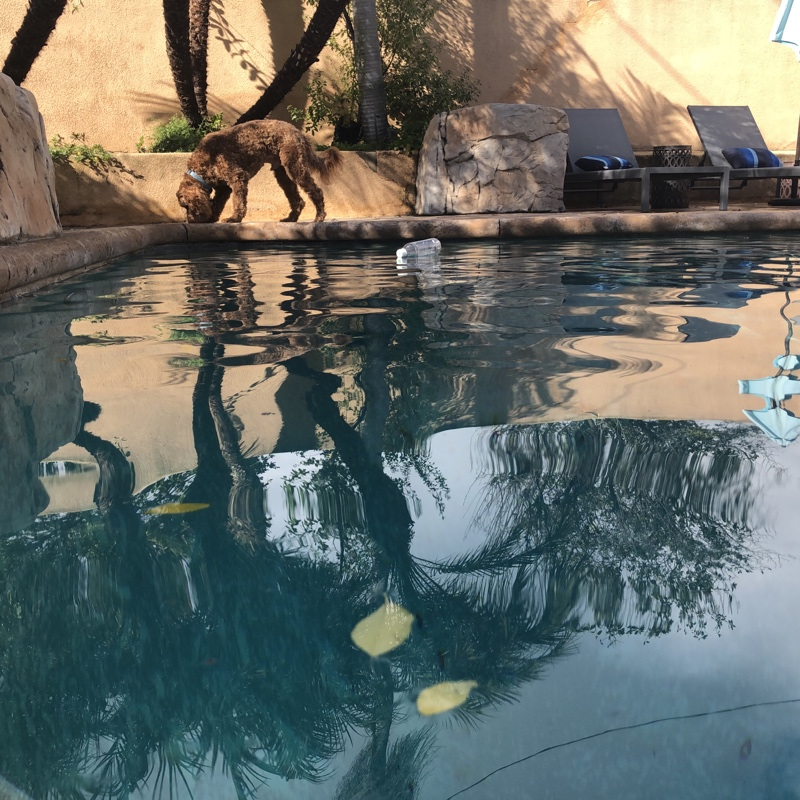Plastic Bottle: (394, 235, 445, 265)
